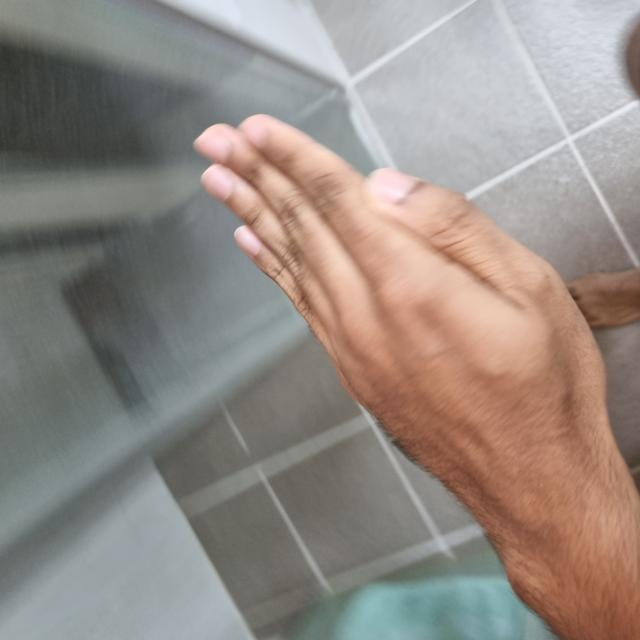Paper: (129, 199, 527, 600)
